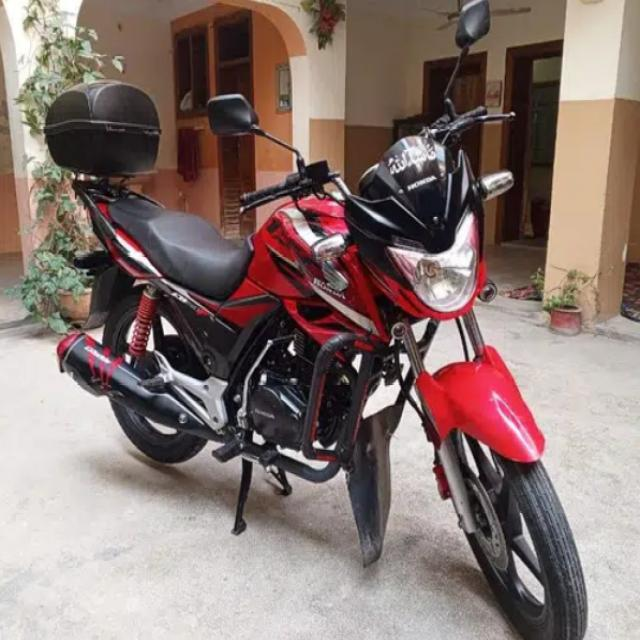Bike: (29, 76, 623, 640)
